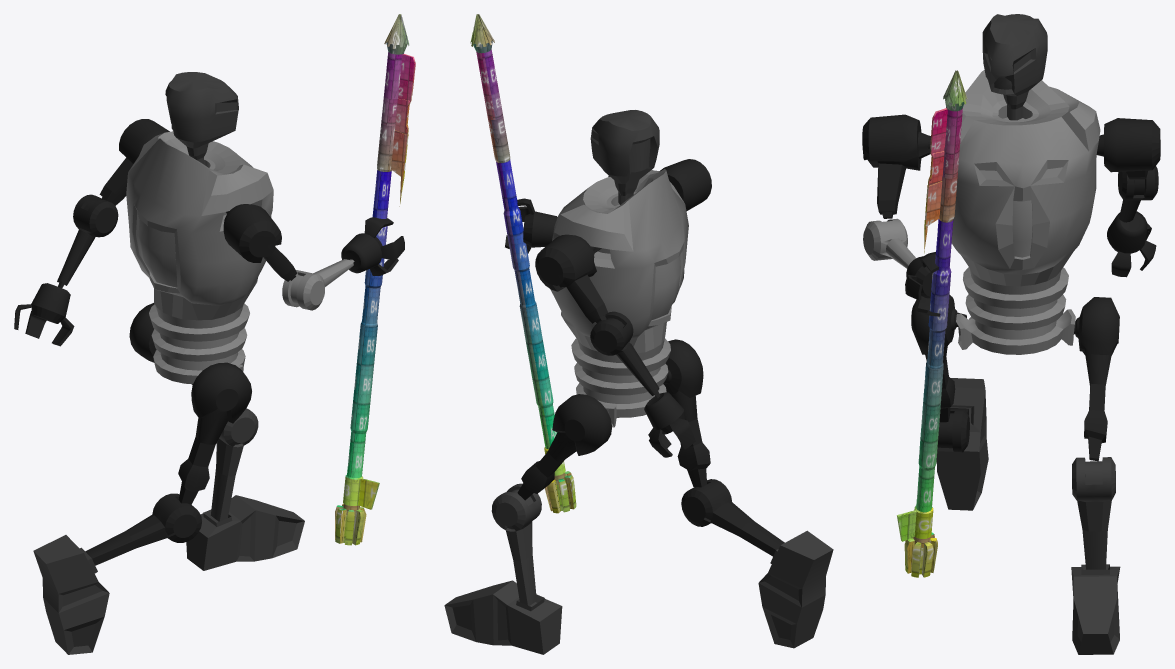
Rendered from RobotWithStaff.obj.
The picture shows the model from 3 angles, left to right: view 1: azimuth 30°, elevation 25°; view 2: azimuth 150°, elevation 25°; view 3: azimuth 270°, elevation 25°; orthographic projection. The views are drawn at different scales.
Parts seen in each view (by area): view 1: Robot Body Torso, Robot PropForTexture:pCylinder1, Robot RightFoot RightLegLower RightLegUpper RightLeg, Robot LeftLegUpper LeftLeg LeftLegLower LeftFoot, Robot RightLegUpper RightLeg, Robot Head Body Torso, Robot RightLegLower RightLegUpper RightLeg, RightArmUpper RightArm Robot, Robot LeftLegUpper LeftLeg LeftLegLower, Robot LeftArmLower LeftArmUpper LeftArm, RightArmUpper RightArm Robot RightArmLower RightHand, Robot LeftArmLower LeftArmUpper LeftArm LeftHand (+3 smaller); view 2: Robot Body Torso, Robot PropForTexture:pCylinder1, Robot RightFoot RightLegLower RightLegUpper RightLeg, Robot LeftLegUpper LeftLeg LeftLegLower LeftFoot, Robot Head Body Torso, Robot LeftLegUpper LeftLeg, Robot LeftArmUpper LeftArm, Robot RightLegUpper RightLeg, Robot LeftLegUpper LeftLeg LeftLegLower, Robot RightLegLower RightLegUpper RightLeg, Robot LeftArmLower LeftArmUpper LeftArm, Robot LeftArmLower LeftArmUpper LeftArm LeftHand (+2 smaller); view 3: Robot Body Torso, Robot PropForTexture:pCylinder1, Robot Head Body Torso, RightArmUpper RightArm Robot, Robot RightFoot RightLegLower RightLegUpper RightLeg, Robot LeftLegUpper LeftLeg, Robot LeftLegUpper LeftLeg LeftLegLower LeftFoot, Robot LeftLegUpper LeftLeg LeftLegLower, Robot LeftArmUpper LeftArm, Robot LeftArmLower LeftArmUpper LeftArm LeftHand, RightArmUpper RightArm Robot RightArmLower, Robot RightLegUpper RightLeg (+3 smaller).
Part boxes in pixels (bbox=[...]): Robot Body Torso: bbox=[126, 131, 273, 384]; Robot PropForTexture:pCylinder1: bbox=[335, 14, 415, 545]; Robot RightFoot RightLegLower RightLegUpper RightLeg: bbox=[33, 535, 109, 654]; Robot LeftLegUpper LeftLeg LeftLegLower LeftFoot: bbox=[186, 495, 304, 570]; Robot RightLegUpper RightLeg: bbox=[178, 362, 251, 504]; Robot Head Body Torso: bbox=[165, 72, 238, 164]; Robot RightLegLower RightLegUpper RightLeg: bbox=[85, 493, 201, 565]; RightArmUpper RightArm Robot: bbox=[223, 204, 297, 281]; Robot LeftLegUpper LeftLeg LeftLegLower: bbox=[210, 408, 258, 521]; Robot LeftArmLower LeftArmUpper LeftArm: bbox=[57, 194, 118, 287]; RightArmUpper RightArm Robot RightArmLower RightHand: bbox=[341, 217, 404, 275]; Robot LeftArmLower LeftArmUpper LeftArm LeftHand: bbox=[14, 283, 74, 346]; Robot Body Torso: bbox=[550, 169, 688, 427]; Robot PropForTexture:pCylinder1: bbox=[470, 14, 576, 513]; Robot RightFoot RightLegLower RightLegUpper RightLeg: bbox=[758, 530, 833, 648]; Robot LeftLegUpper LeftLeg LeftLegLower LeftFoot: bbox=[444, 580, 562, 654]; Robot Head Body Torso: bbox=[590, 110, 659, 204]; Robot LeftLegUpper LeftLeg: bbox=[517, 394, 611, 500]; Robot LeftArmUpper LeftArm: bbox=[535, 234, 607, 323]; Robot RightLegUpper RightLeg: bbox=[663, 339, 710, 487]; Robot LeftLegUpper LeftLeg LeftLegLower: bbox=[491, 483, 541, 605]; Robot RightLegLower RightLegUpper RightLeg: bbox=[681, 479, 784, 556]; Robot LeftArmLower LeftArmUpper LeftArm: bbox=[590, 311, 660, 398]; Robot LeftArmLower LeftArmUpper LeftArm LeftHand: bbox=[644, 392, 695, 457]; Robot Body Torso: bbox=[951, 70, 1100, 354]; Robot PropForTexture:pCylinder1: bbox=[897, 70, 967, 577]; Robot Head Body Torso: bbox=[982, 14, 1047, 120]; RightArmUpper RightArm Robot: bbox=[862, 114, 930, 218]; Robot RightFoot RightLegLower RightLegUpper RightLeg: bbox=[936, 378, 988, 510]; Robot LeftLegUpper LeftLeg: bbox=[1074, 297, 1119, 461]; Robot LeftLegUpper LeftLeg LeftLegLower LeftFoot: bbox=[1071, 564, 1120, 654]; Robot LeftLegUpper LeftLeg LeftLegLower: bbox=[1072, 457, 1115, 569]; Robot LeftArmUpper LeftArm: bbox=[1096, 118, 1160, 179]; Robot LeftArmLower LeftArmUpper LeftArm LeftHand: bbox=[1107, 211, 1156, 277]; RightArmUpper RightArm Robot RightArmLower: bbox=[863, 218, 915, 268]; Robot RightLegUpper RightLeg: bbox=[911, 295, 966, 422].
Size of the model in its own units: 6.83 by 10.11 by 4.49.
9 materials, 1 textured.
